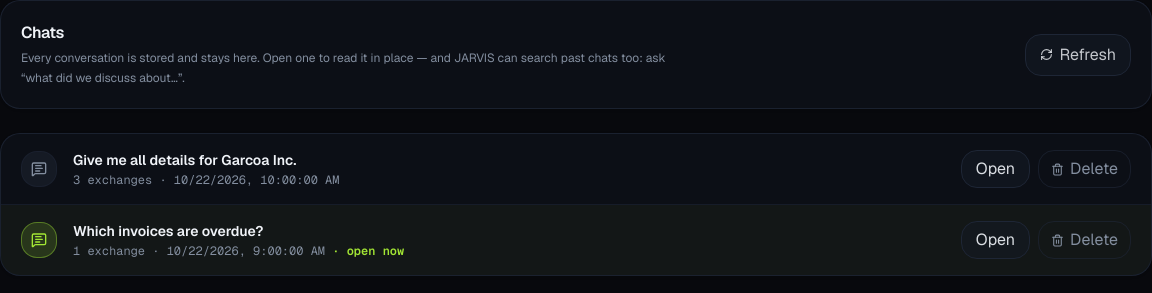
ChatHistoryPanel › deletes only after a confirming second click
The image size is (1152, 293).
Check: the text "Give me all details for Garcoa Inc." is shown, box [73,151,296,169]
Click the button with aria-label "Delete chat".
click(1085, 169)  # box [1038,150,1131,188]
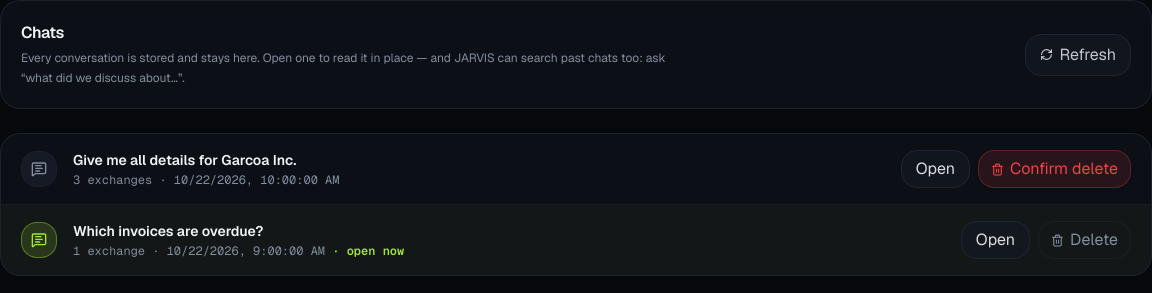
Click the button "Confirm delete".
click(1055, 169)  # box [978,150,1131,188]
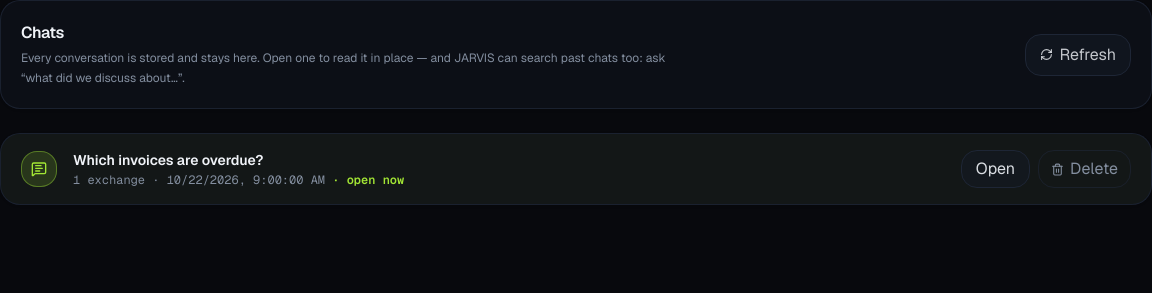
Check: the text "Give me all details for Garcoa Inc." is gone
